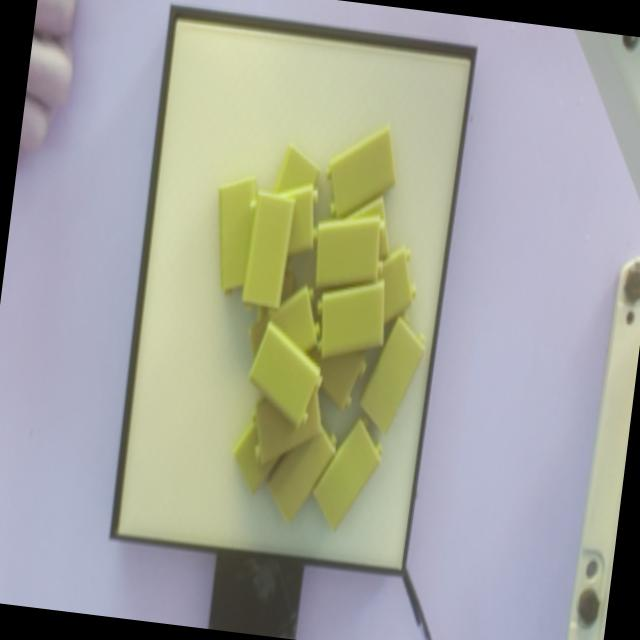bateria: (311, 416, 383, 535), (247, 321, 323, 428), (359, 316, 425, 437), (241, 190, 296, 316), (325, 121, 395, 218), (317, 283, 384, 359), (315, 216, 383, 285)
mesa: (108, 5, 477, 578)
